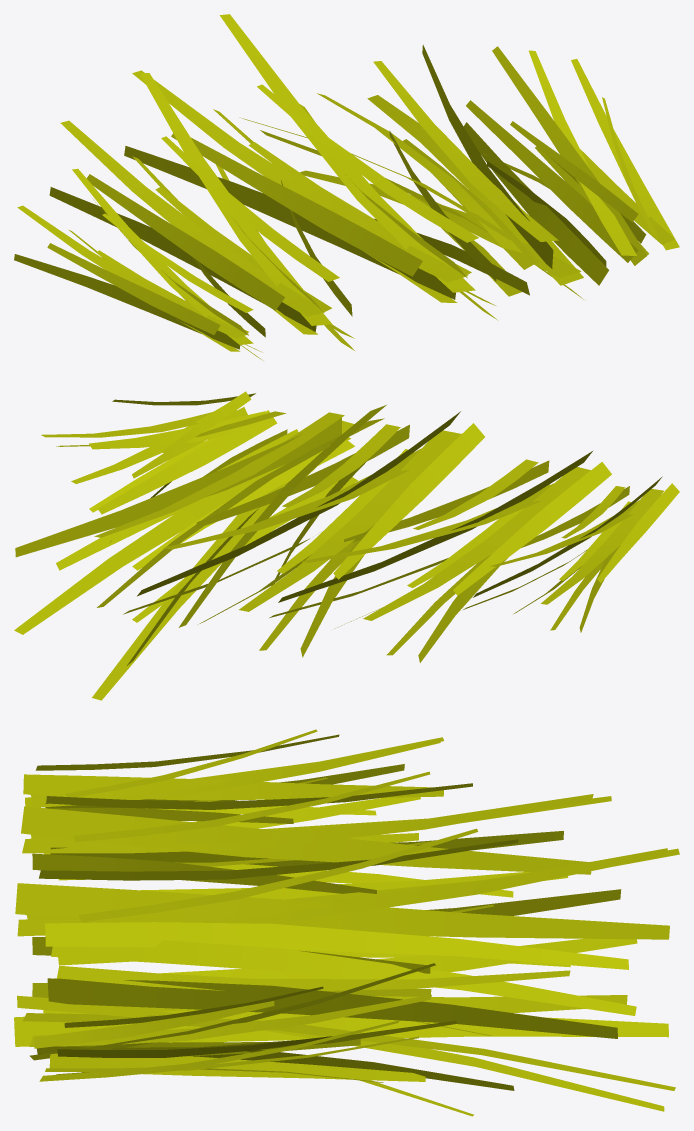
The model's file is test_grass.fbx.
3 renders of one model, top to bottom at view 1: azimuth 30°, elevation 25°; view 2: azimuth 150°, elevation 25°; view 3: azimuth 270°, elevation 25°, orthographic. The views are drawn at different scales.
Parts seen in each view (by area): view 1: fixed_grass; view 2: fixed_grass; view 3: fixed_grass.
Boxes of the visible parts, x1,y1,x2,y2 form: fixed_grass: [14, 14, 679, 360]; fixed_grass: [14, 391, 679, 700]; fixed_grass: [14, 729, 679, 1116].
Size of the model in its own units: 137 by 48.51 by 162.
